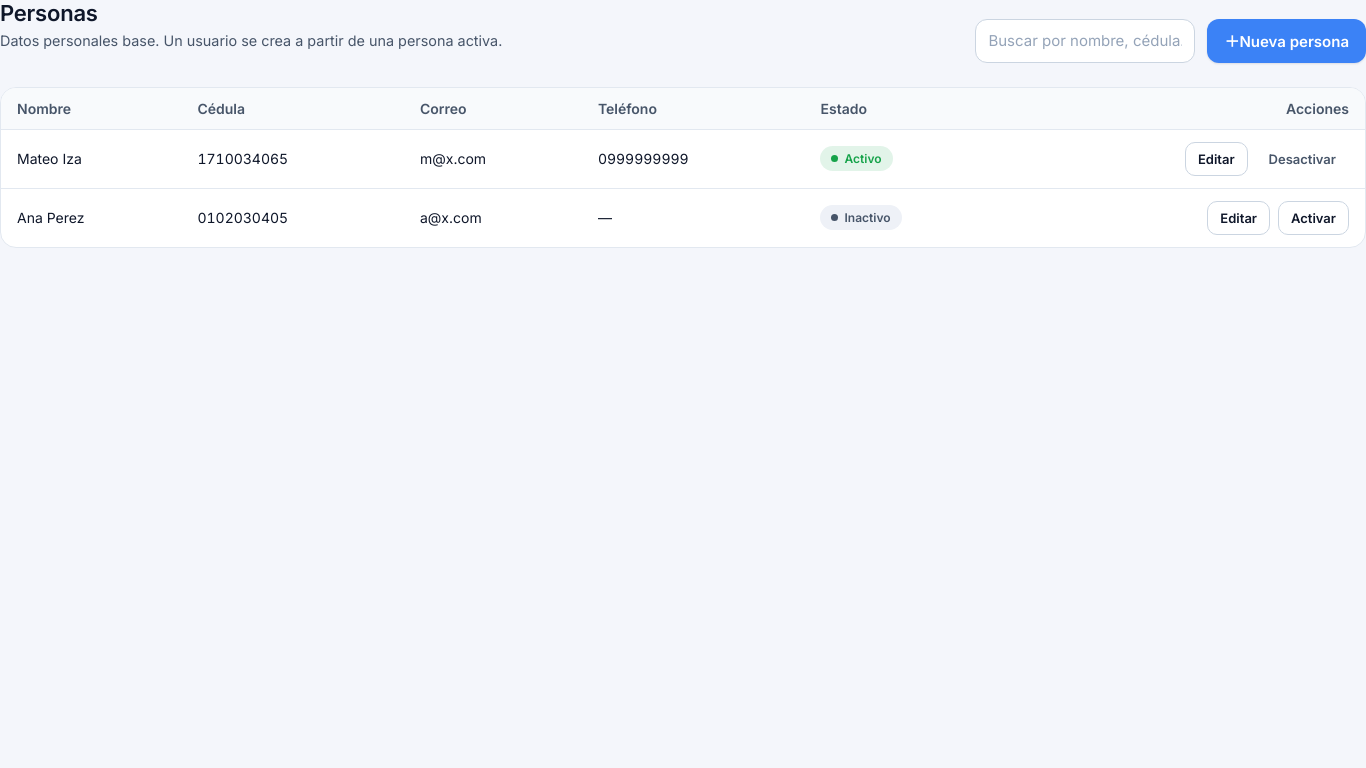
Test: PersonasPage › valida campos inválidos al crear
Expected: the text "m@x.com" is shown, [404,129,582,188]
Click the button "＋Nueva persona" at (1287, 41), box [1207,19,1365,63]
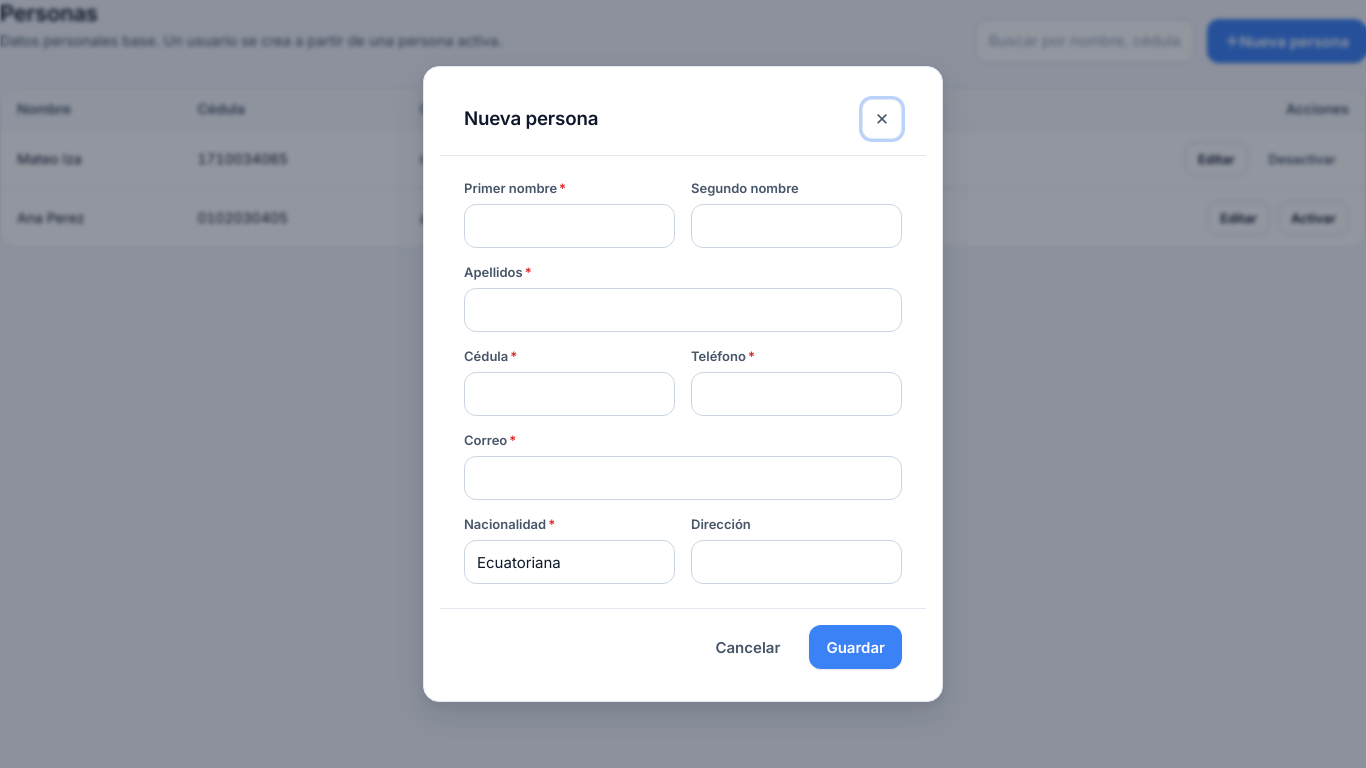
Click the button "Guardar" at (856, 647), box [809,625,902,669]
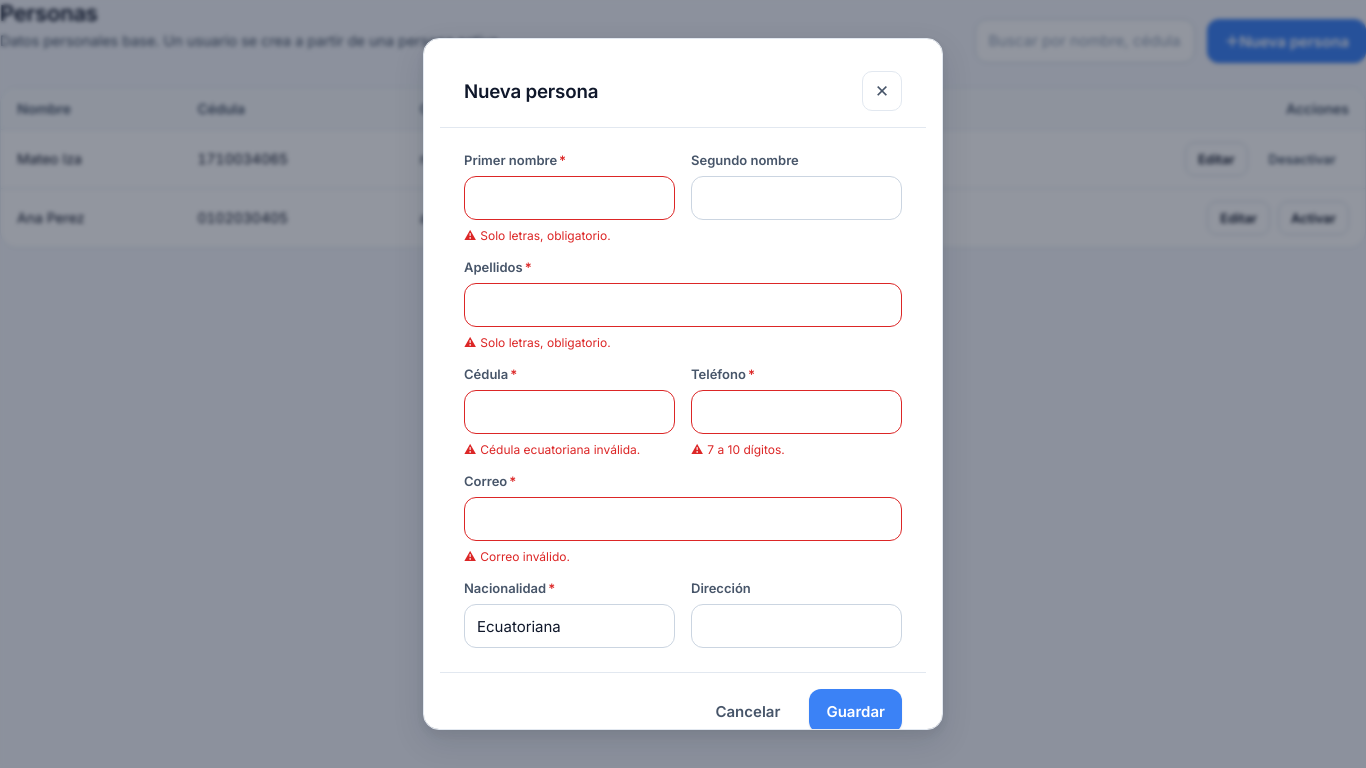
Expected: the text "Cédula ecuatoriana inválida." is shown, [480,442,640,457]
